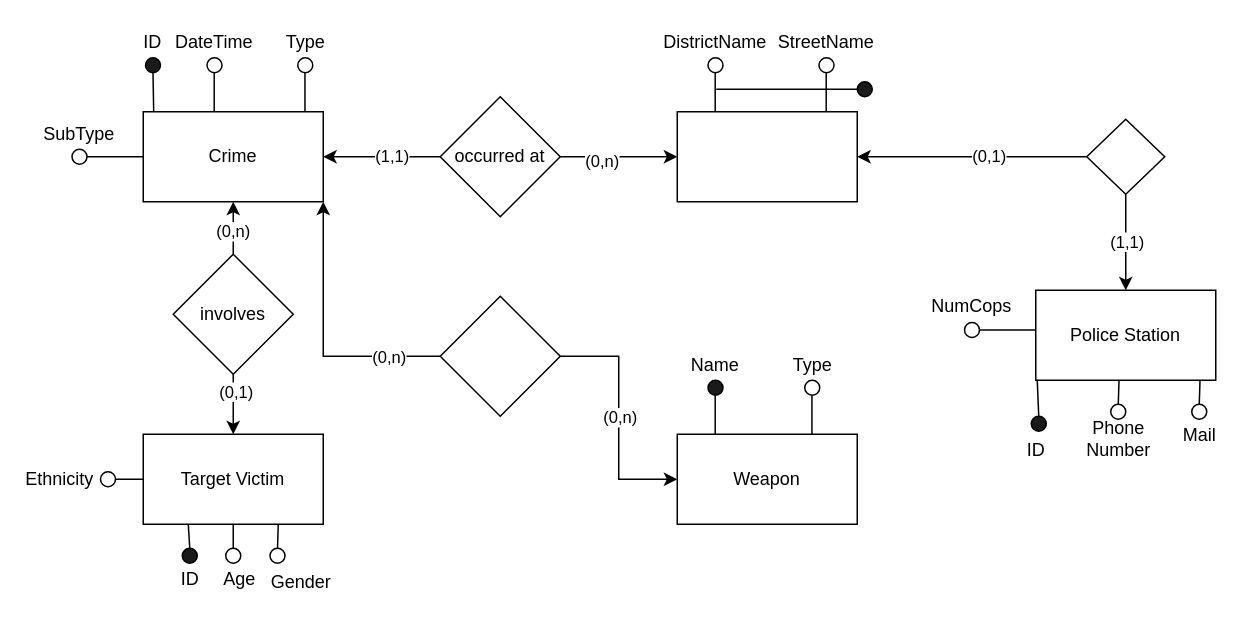
Some shapes in this 1256 by 623 pixel diagram are drawn without their labels. Each missing label, with the centre of its shape:
at: the point at 1125,156
Location: the point at 766,156
used weapon: the point at 499,355
